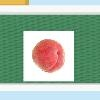raw: (30, 38, 66, 75)
